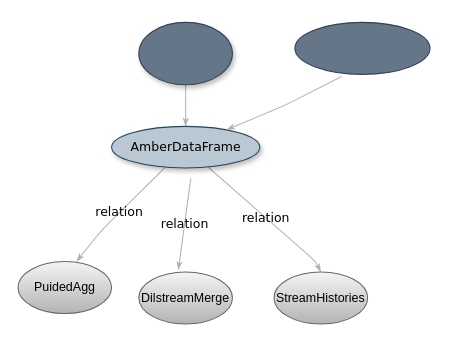
The diagram is 449 pixels wide and 342 high, and some of its shapes have lost their labels. The shapes that lost their labels are listed below. From the top down, each one's centre as x and y in pixels, then its label:
At point (186, 54): "SparkClass".
At point (362, 47): "FileSystemClass".
